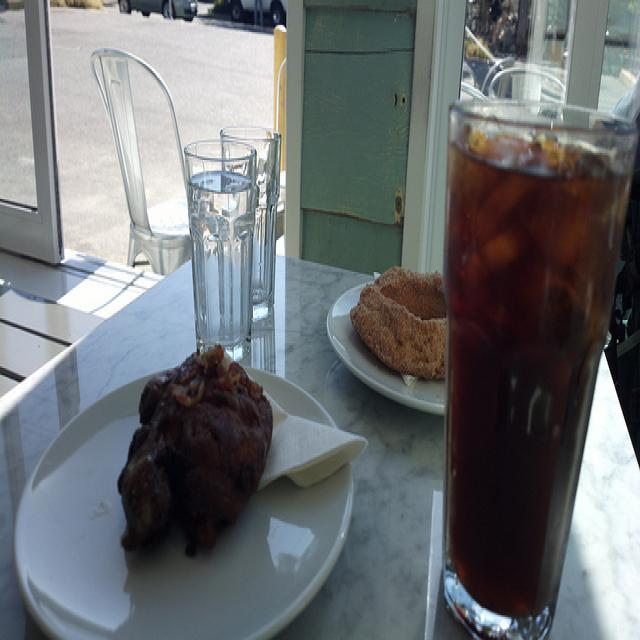Vehicle: (228, 0, 287, 28), (119, 1, 198, 21)
